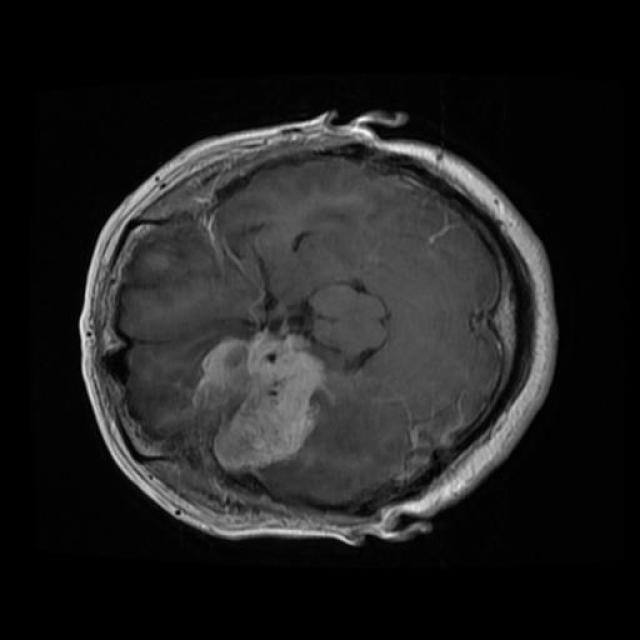Meningioma: (192, 329, 329, 472)
